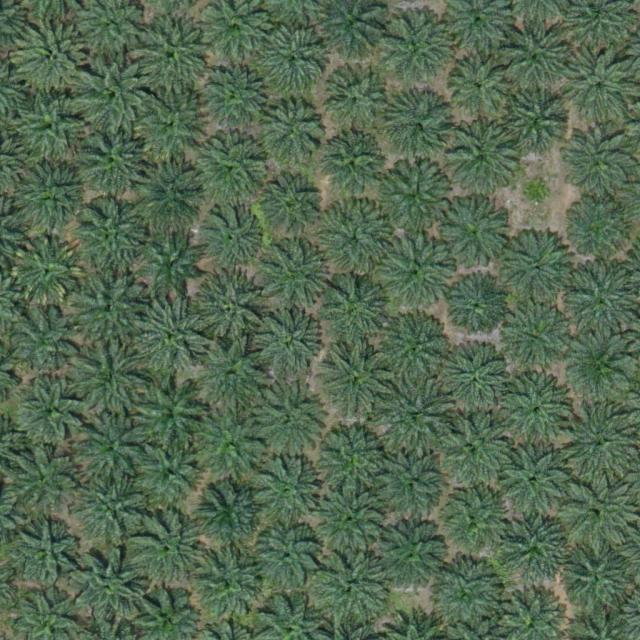Healthy: (23, 22, 101, 101), (378, 10, 456, 89), (498, 22, 576, 101), (376, 312, 454, 391), (318, 199, 396, 278), (318, 275, 396, 354), (318, 345, 396, 424), (197, 59, 275, 138), (189, 269, 267, 348), (194, 339, 272, 418), (129, 298, 207, 377), (132, 154, 210, 233), (129, 87, 207, 166), (134, 20, 212, 99), (74, 56, 152, 135), (72, 121, 150, 200), (72, 195, 150, 274), (71, 270, 149, 349), (64, 342, 142, 421), (74, 409, 152, 488), (73, 468, 151, 547), (70, 552, 148, 631), (131, 371, 209, 450), (133, 433, 211, 512), (131, 509, 209, 588), (188, 406, 266, 485), (247, 457, 325, 536), (249, 380, 327, 459), (316, 482, 394, 561), (315, 549, 393, 628), (429, 413, 507, 492), (560, 404, 638, 483), (558, 476, 636, 555), (375, 232, 453, 310), (376, 159, 454, 237), (256, 21, 334, 99), (316, 423, 394, 501), (432, 483, 510, 561), (425, 556, 503, 634), (499, 304, 570, 375), (501, 230, 572, 301), (256, 101, 327, 172), (195, 551, 266, 622), (197, 480, 268, 551), (375, 450, 446, 521), (566, 52, 636, 123), (565, 130, 635, 201), (565, 333, 636, 403), (502, 92, 573, 162), (447, 347, 517, 418), (251, 307, 321, 378), (261, 241, 331, 312), (17, 93, 87, 164), (17, 160, 87, 231), (8, 448, 78, 519), (254, 524, 324, 595), (502, 511, 572, 582), (441, 194, 511, 264), (382, 93, 452, 163), (321, 65, 391, 135), (197, 138, 267, 208), (12, 309, 82, 379), (17, 377, 87, 447), (9, 518, 79, 588), (375, 522, 445, 592), (384, 379, 454, 449), (497, 447, 567, 517), (501, 378, 571, 448), (563, 547, 633, 617), (447, 54, 510, 117), (447, 276, 510, 339), (568, 197, 630, 260), (452, 128, 514, 191), (321, 134, 383, 197), (261, 175, 323, 238), (202, 206, 264, 269), (140, 232, 203, 294)
Small: (522, 179, 553, 210)
Yellow: (13, 236, 83, 307)
